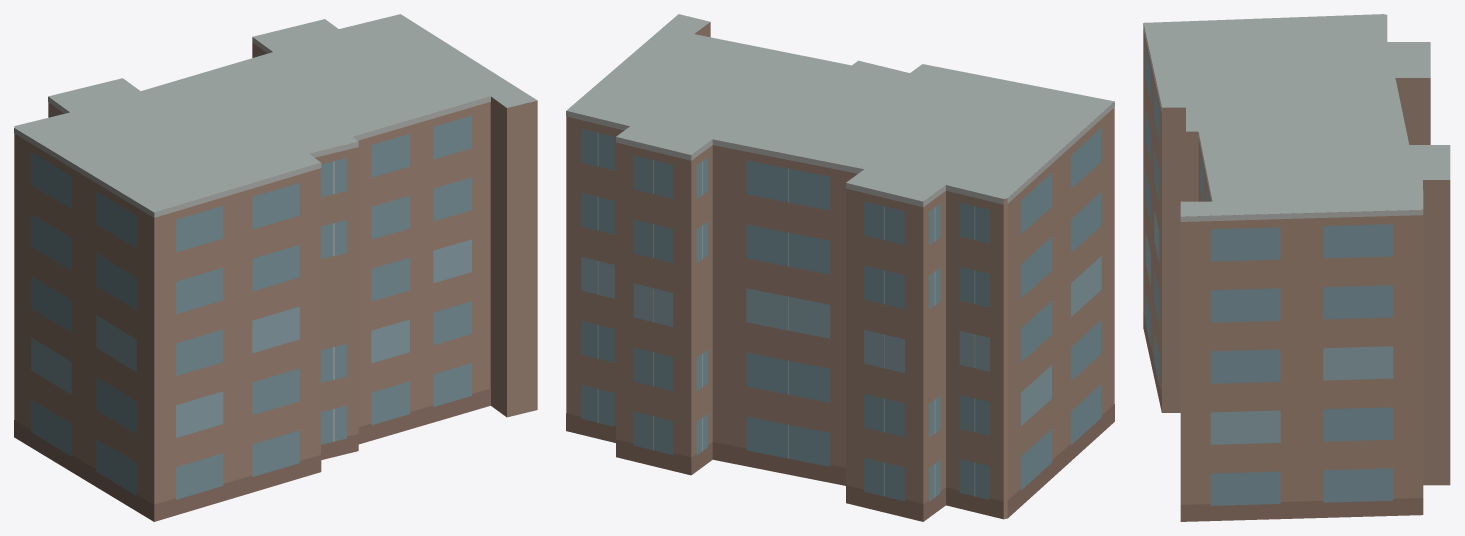
File: survey-upis-32755780.glb
3 views of the same model, side by side, from view 1: azimuth 30°, elevation 25°; view 2: azimuth 150°, elevation 25°; view 3: azimuth 270°, elevation 25° (orthographic). The views are drawn at different scales.
Parts seen in each view (by area): view 1: survey-upis-32755780.tmp; view 2: survey-upis-32755780.tmp; view 3: survey-upis-32755780.tmp.
Boxes of the visible parts, <box> form: survey-upis-32755780.tmp: <box>14,14,537,521</box>; survey-upis-32755780.tmp: <box>566,14,1114,521</box>; survey-upis-32755780.tmp: <box>1143,14,1450,521</box>.
Size of the model in its own units: 19.65 by 13.8 by 12.59.
